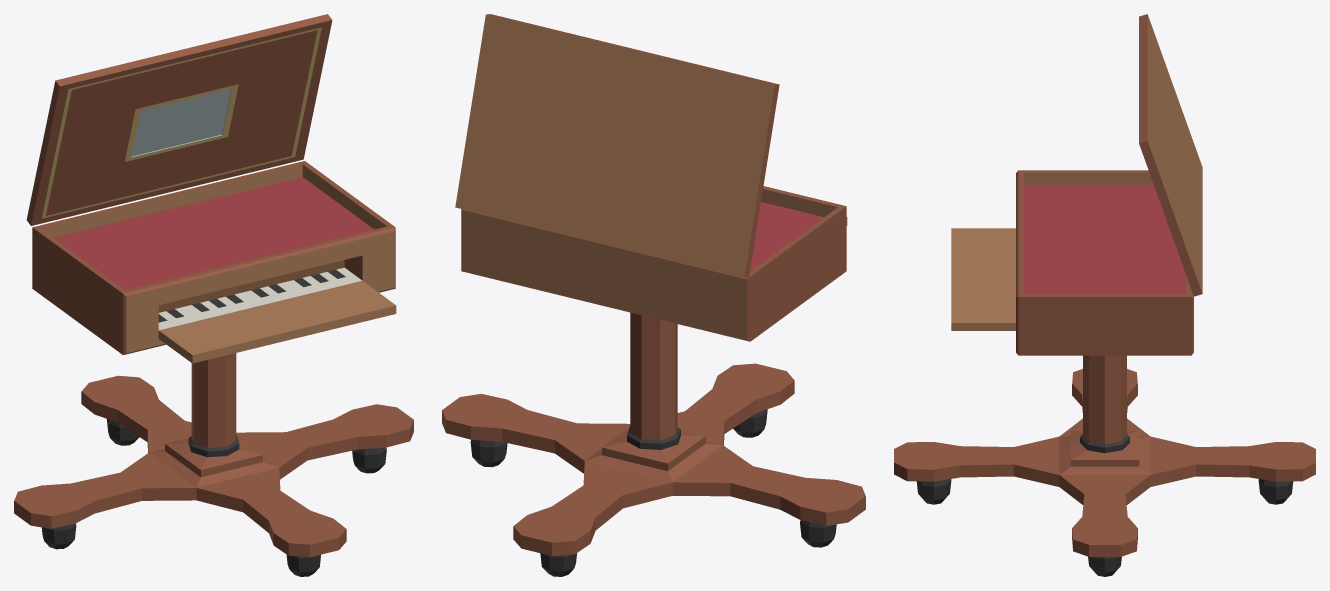
File: clavicordio.fbx
3 renders of one model, left to right at view 1: azimuth 30°, elevation 25°; view 2: azimuth 150°, elevation 25°; view 3: azimuth 270°, elevation 25°, orthographic. The views are drawn at different scales.
Visible parts, largest first — view 1: clavicordio, clavicordio_tapa; view 2: clavicordio, clavicordio_tapa; view 3: clavicordio, clavicordio_tapa.
Boxes of the visible parts, left/top/right/bottom form: clavicordio: left=14, top=161, right=413, bottom=576; clavicordio_tapa: left=26, top=14, right=332, bottom=225; clavicordio: left=442, top=186, right=865, bottom=576; clavicordio_tapa: left=455, top=14, right=779, bottom=277; clavicordio: left=894, top=170, right=1315, bottom=576; clavicordio_tapa: left=1139, top=14, right=1202, bottom=296.
Bounding box in the file's own units: 111 × 123 × 111.
